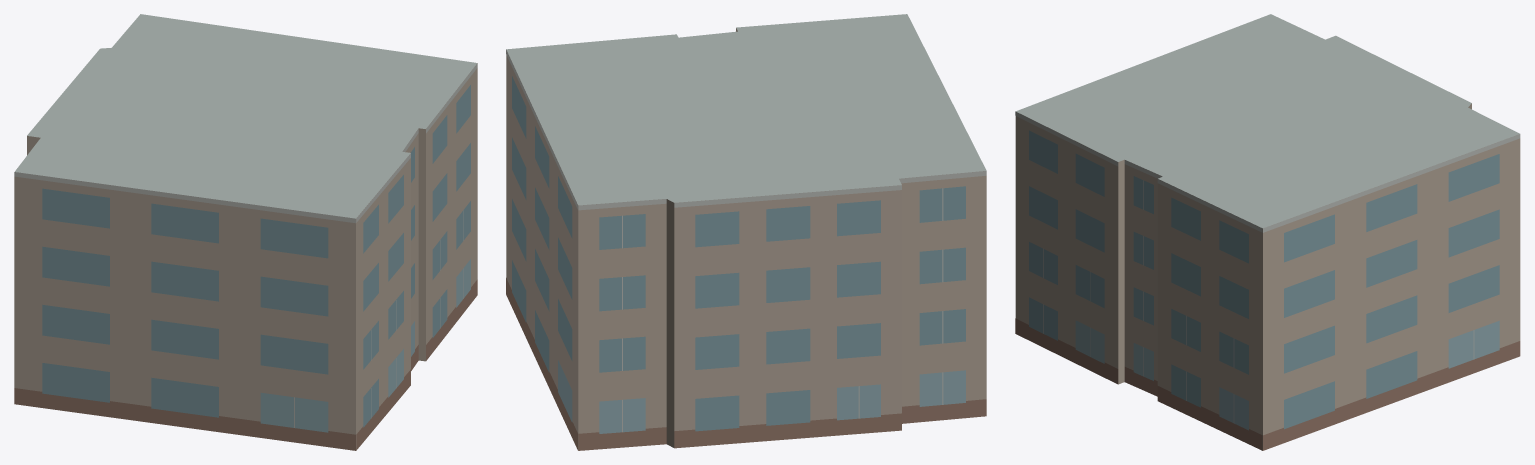
Rendered from survey-upis-32681710.glb.
The picture shows the model from 3 angles, left to right: view 1: azimuth 30°, elevation 25°; view 2: azimuth 150°, elevation 25°; view 3: azimuth 270°, elevation 25°; orthographic projection. The views are drawn at different scales.
Parts seen in each view (by area): view 1: survey-upis-32681710.tmp; view 2: survey-upis-32681710.tmp; view 3: survey-upis-32681710.tmp.
Boxes of the visible parts, x1,y1,x2,y2 form: survey-upis-32681710.tmp: (14,14,477,450); survey-upis-32681710.tmp: (506,14,986,450); survey-upis-32681710.tmp: (1015,14,1520,450).
Bounding box in the file's own units: 25.23 × 12.2 × 25.1.
